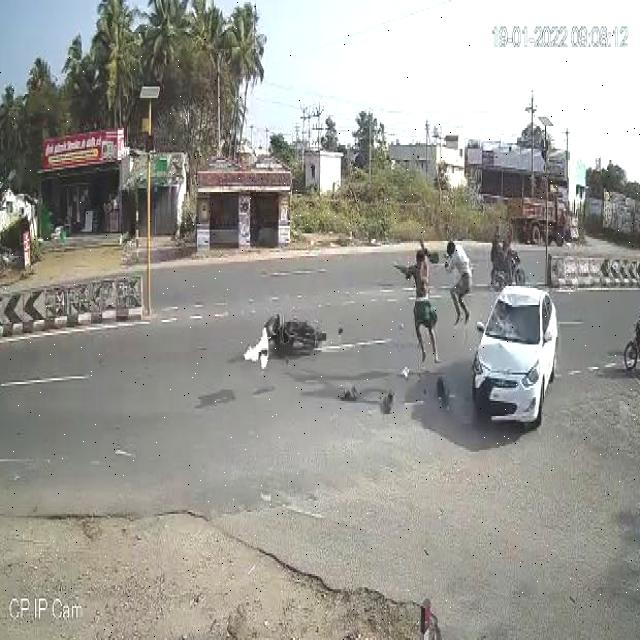accident: (390, 215, 571, 431), (236, 289, 331, 385)
